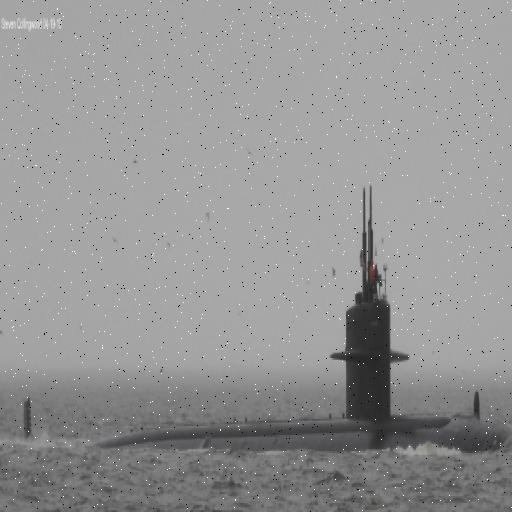submarine: (24, 184, 512, 456)
